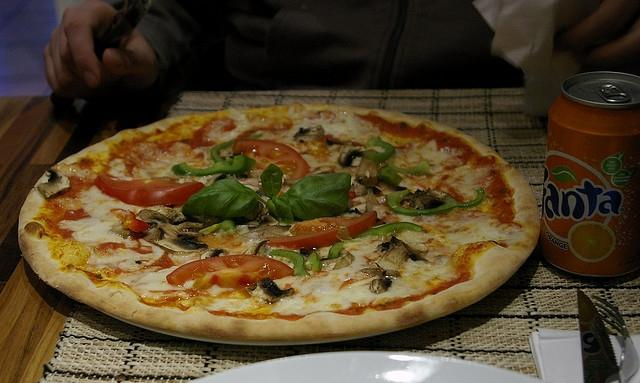mushroom: (136, 210, 203, 242), (376, 236, 428, 270), (244, 278, 294, 303), (152, 231, 208, 252), (38, 168, 70, 199), (292, 124, 326, 148), (354, 158, 380, 187), (338, 146, 367, 168), (369, 278, 394, 295)
orange: (568, 222, 616, 262)
tomato: (166, 254, 294, 289), (266, 211, 378, 250), (94, 175, 205, 206), (232, 139, 310, 179)
